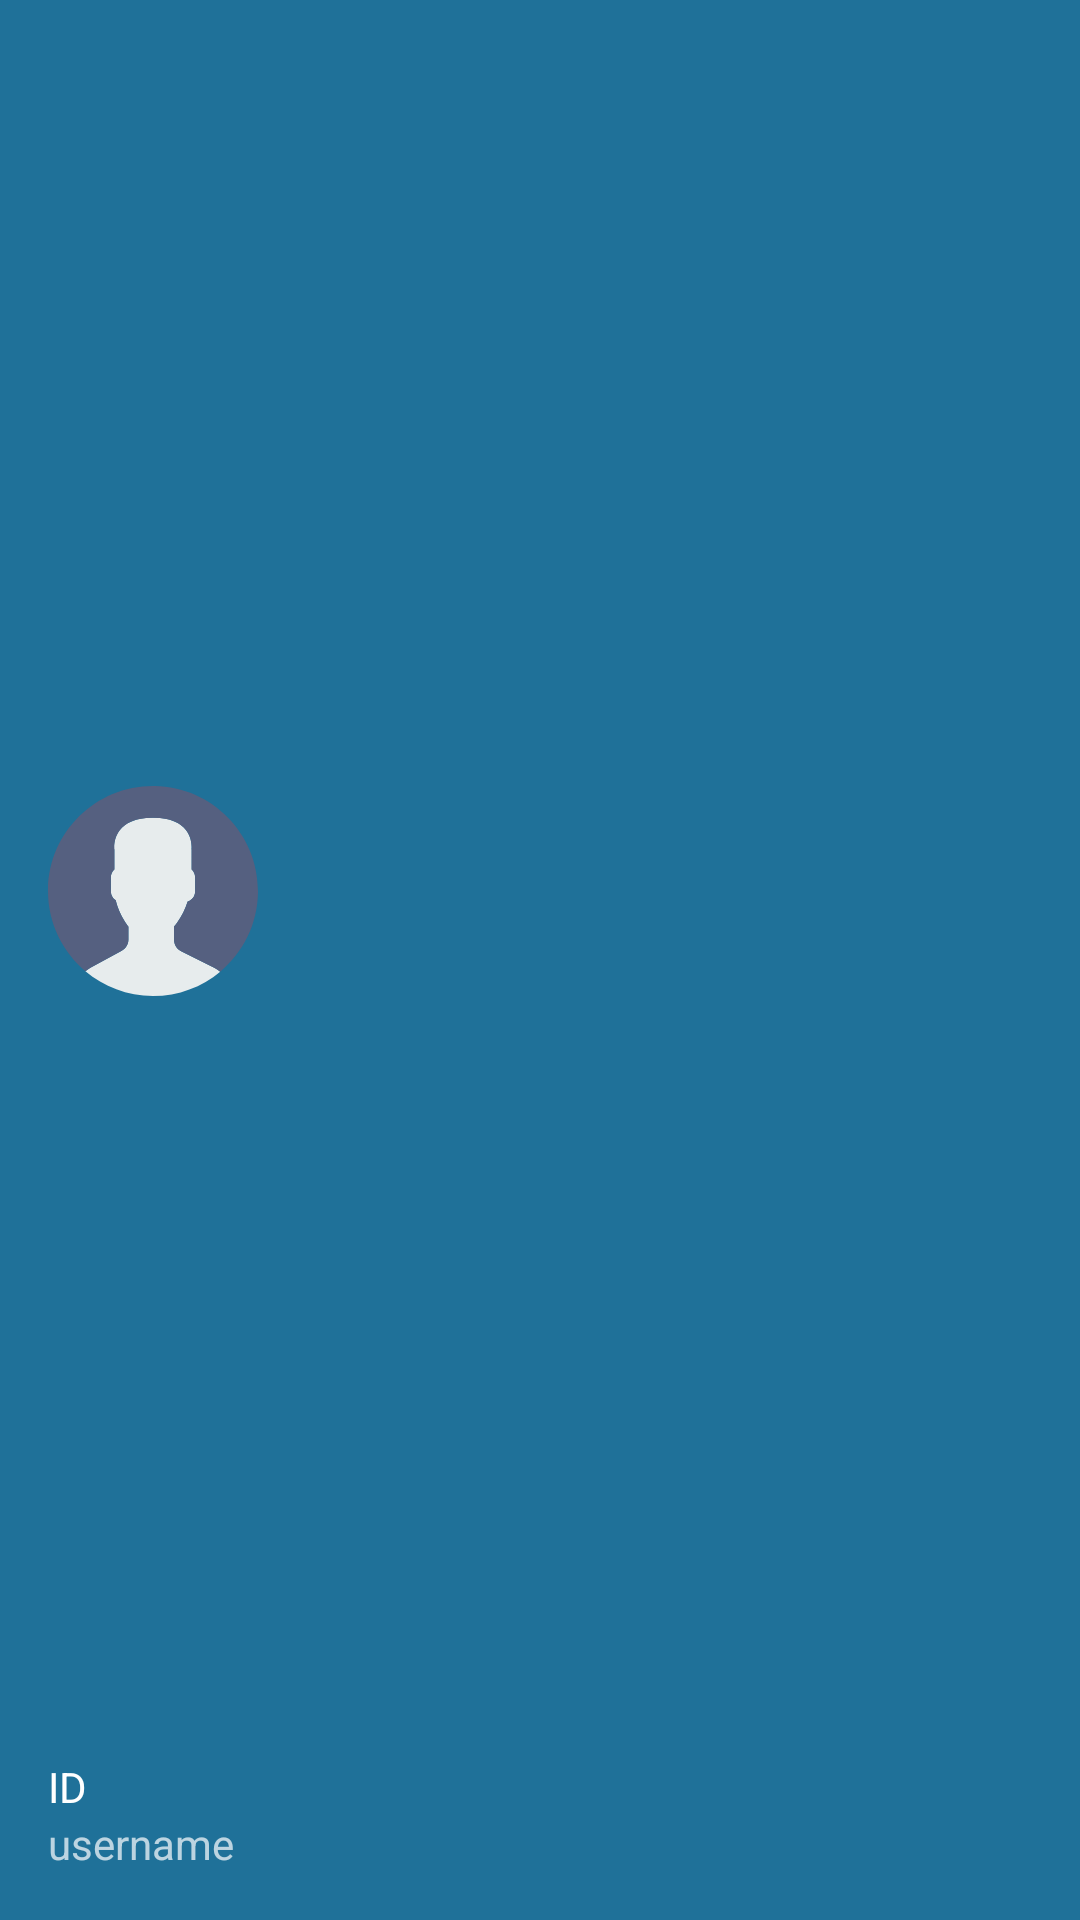

Screen size 1080w x 1920h. Icon name, then its box in pixels as box(x1, y1, x2, y2):
user: box(48, 786, 258, 996)
